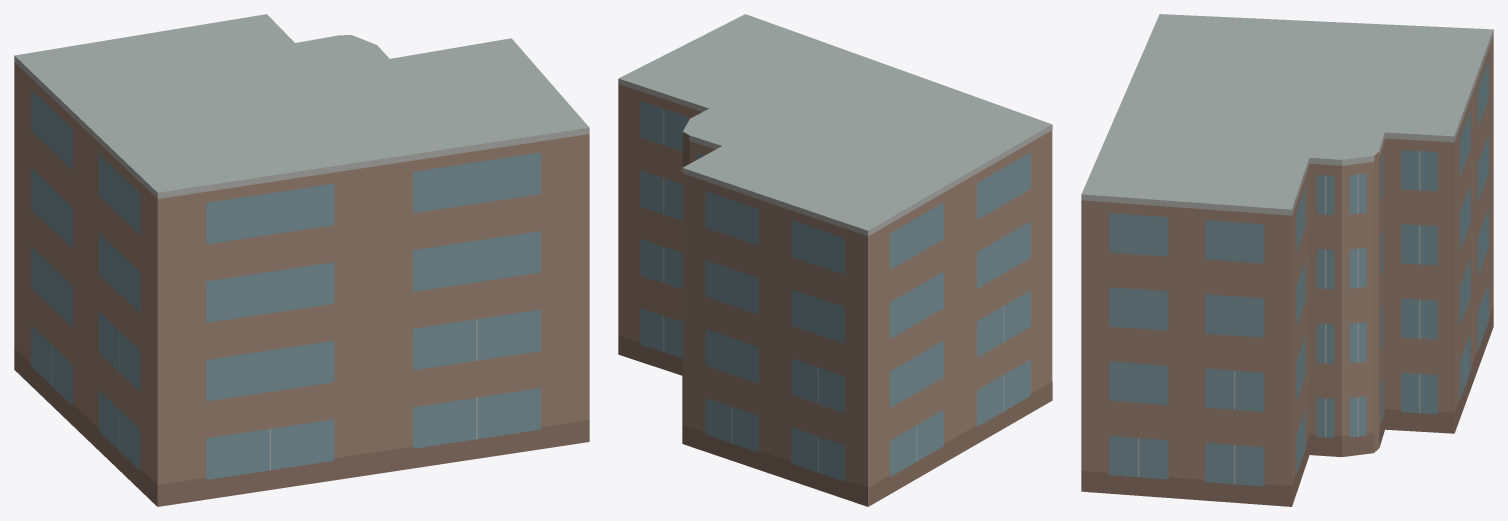
The model's file is survey-upis-32603425.glb.
3 renders of one model, left to right at view 1: azimuth 30°, elevation 25°; view 2: azimuth 150°, elevation 25°; view 3: azimuth 270°, elevation 25°, orthographic. The views are drawn at different scales.
Visible parts, largest first — view 1: survey-upis-32603425.tmp; view 2: survey-upis-32603425.tmp; view 3: survey-upis-32603425.tmp.
Part boxes in pixels (x1,y1,x2,y2): survey-upis-32603425.tmp: (14,14,589,506); survey-upis-32603425.tmp: (618,14,1052,506); survey-upis-32603425.tmp: (1081,14,1493,506).
Size of the model in its own units: 17.24 by 12.2 by 15.35.
